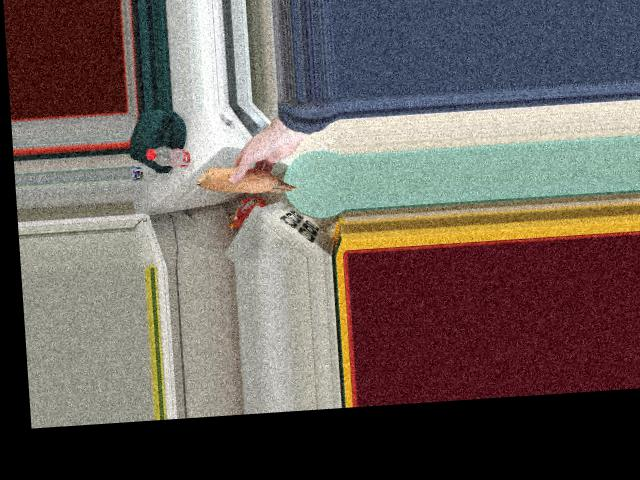sweet_potato: (202, 163, 298, 197)
